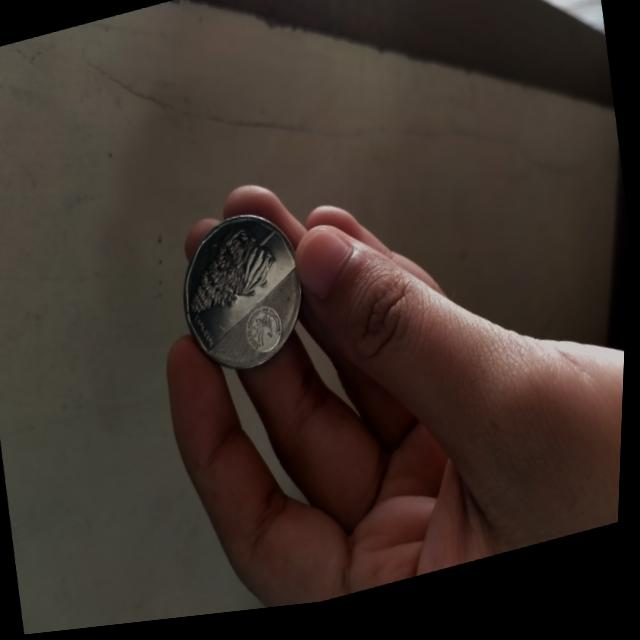10_New_Back: (172, 211, 294, 332)
